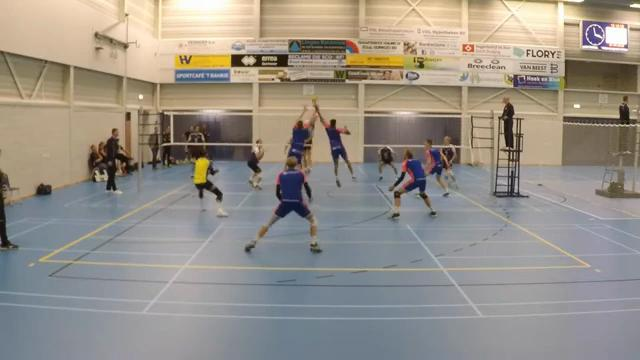attacco: (303, 105, 322, 174)
muro: (311, 102, 360, 188), (277, 102, 315, 183)
